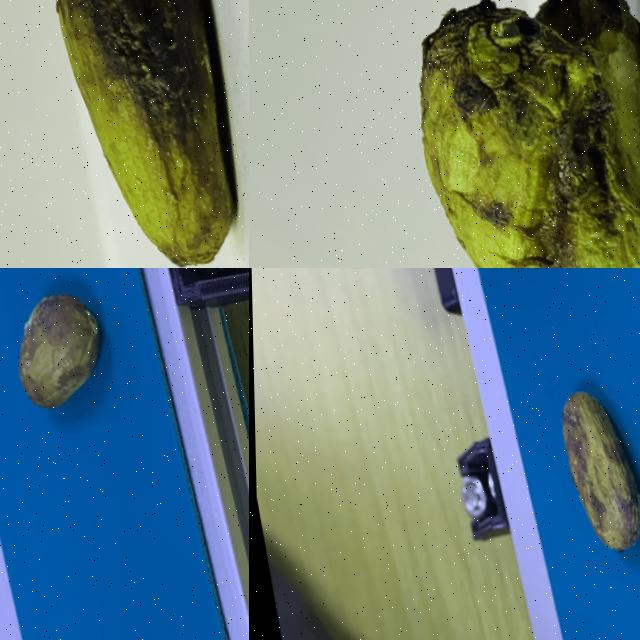Agglomerated_cocoabeans: (358, 0, 639, 267)
Fine_cocoabeans: (0, 0, 248, 267), (510, 313, 639, 639), (0, 268, 153, 515)
